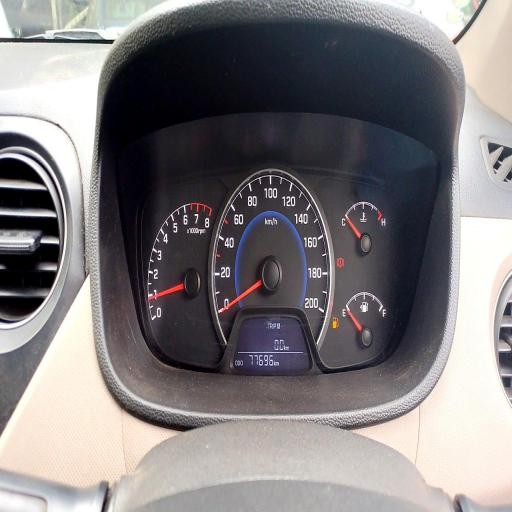brake_system_fault: (337, 258, 344, 268)
tachometer: (147, 200, 214, 341)
